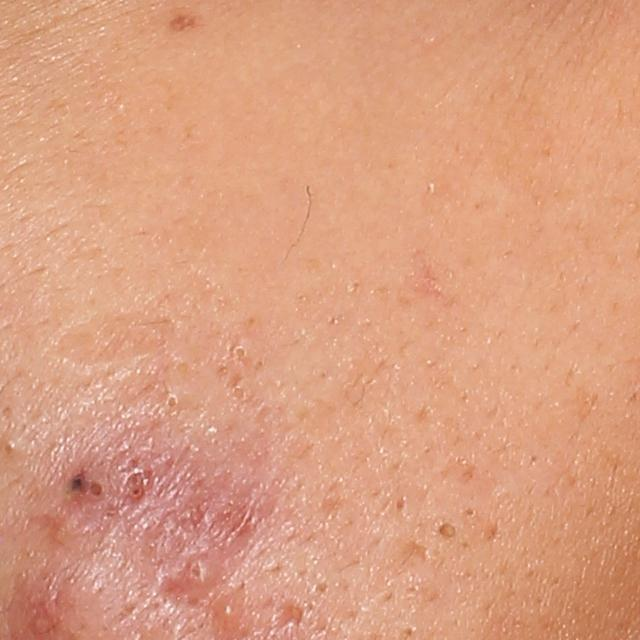atrophic_scar: (48, 415, 266, 553), (50, 318, 175, 377), (398, 538, 429, 566)
comedo: (433, 518, 460, 545), (392, 493, 414, 515), (232, 344, 249, 365), (1, 437, 15, 459), (403, 623, 420, 640), (166, 391, 181, 410), (465, 505, 476, 520)
papule: (115, 449, 155, 506), (212, 592, 253, 638), (177, 552, 219, 596)
